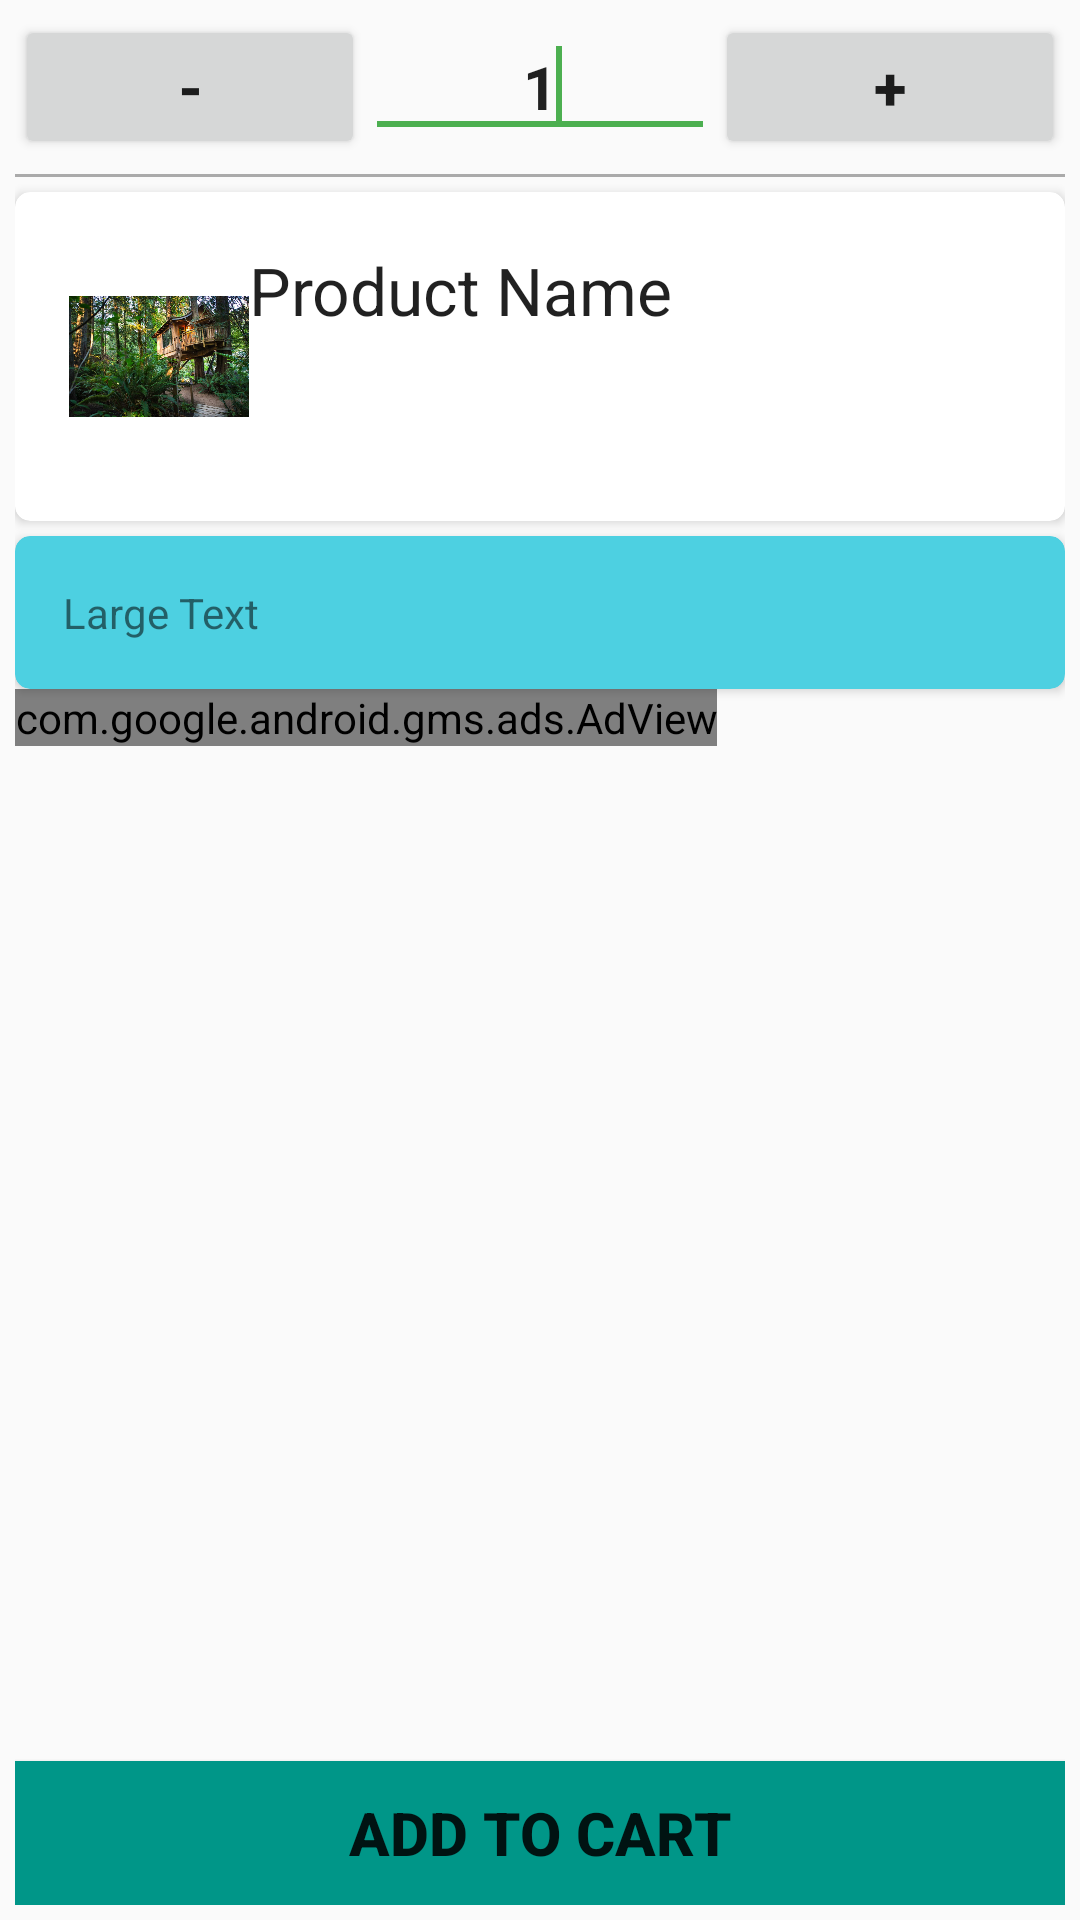

Icon bounding boxes for this 1080*1920 phone screenshot, format (x1, y1, x2, y2):
Image of Product In Add Quantity: (69, 296, 249, 417)
